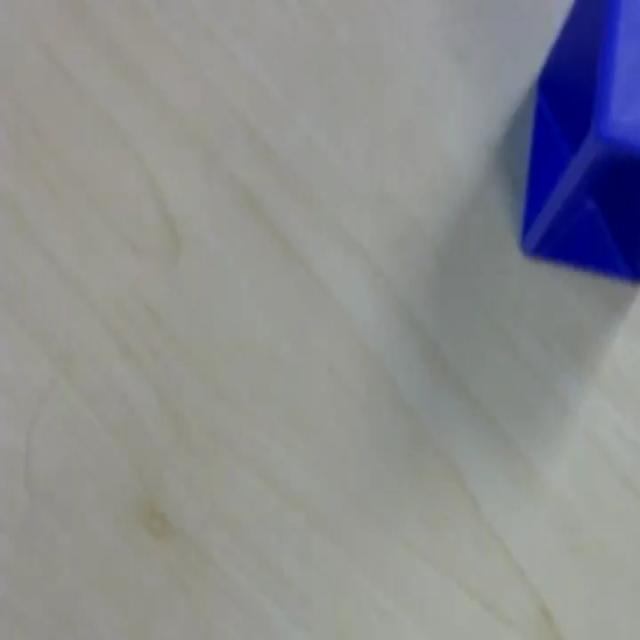blue_block: (518, 0, 638, 283)
